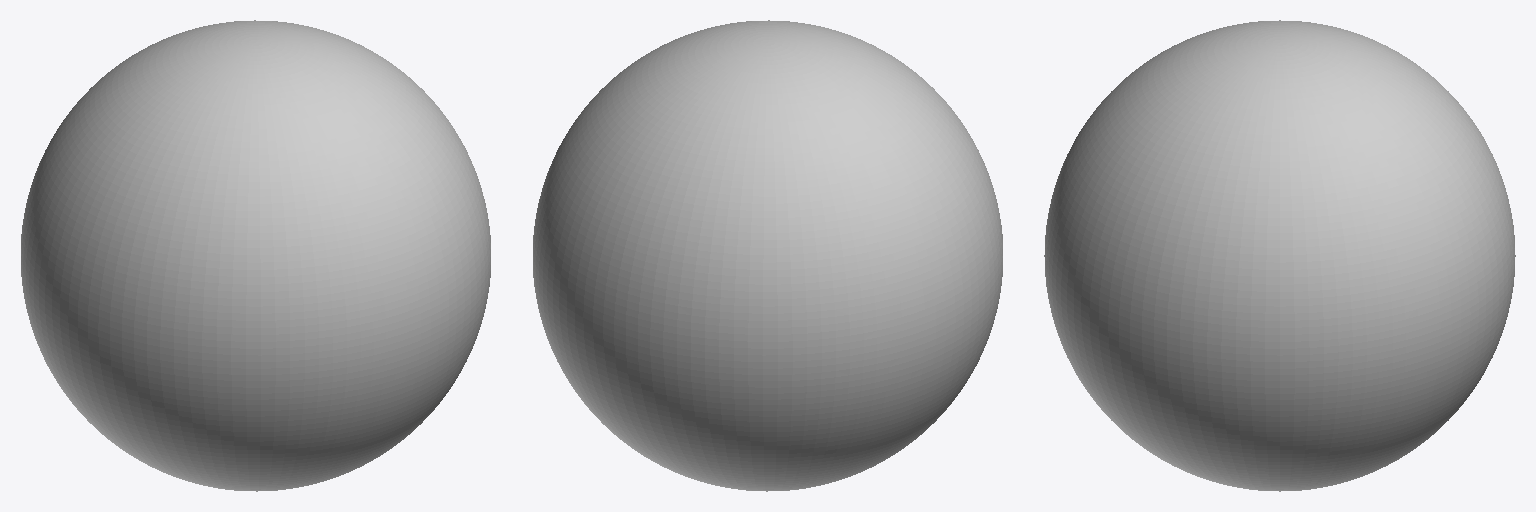
File: skySphere.obj
The picture shows the model from 3 angles: view 1: azimuth 30°, elevation 25°; view 2: azimuth 150°, elevation 25°; view 3: azimuth 270°, elevation 25°; orthographic projection.
Visible parts, largest first — view 1: Sphere; view 2: Sphere; view 3: Sphere.
Part boxes in pixels (x1,y1,x2,y2): Sphere: (21, 20, 490, 491); Sphere: (533, 20, 1002, 491); Sphere: (1044, 20, 1515, 491).
Bounding box in the file's own units: 0.6508 × 0.6508 × 0.6508.